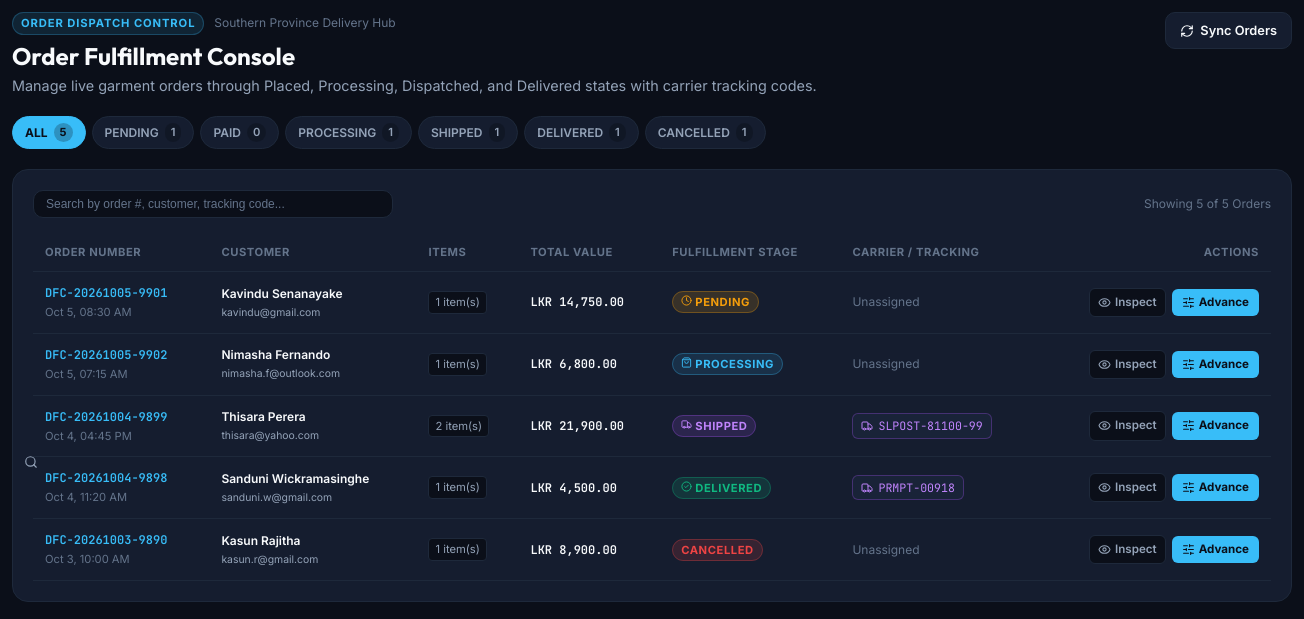
it: STORM-FE-019: Admin Order Fulfillment Console & 30-Day Return Approvals › AC1: Orders Fulfillment Console & Status Filter Pills › filters orders list by status tabs (e.g. SHIPPED)
Click the tab with test id "filter-tab-shipped" at (468, 133), box [418, 116, 518, 149]
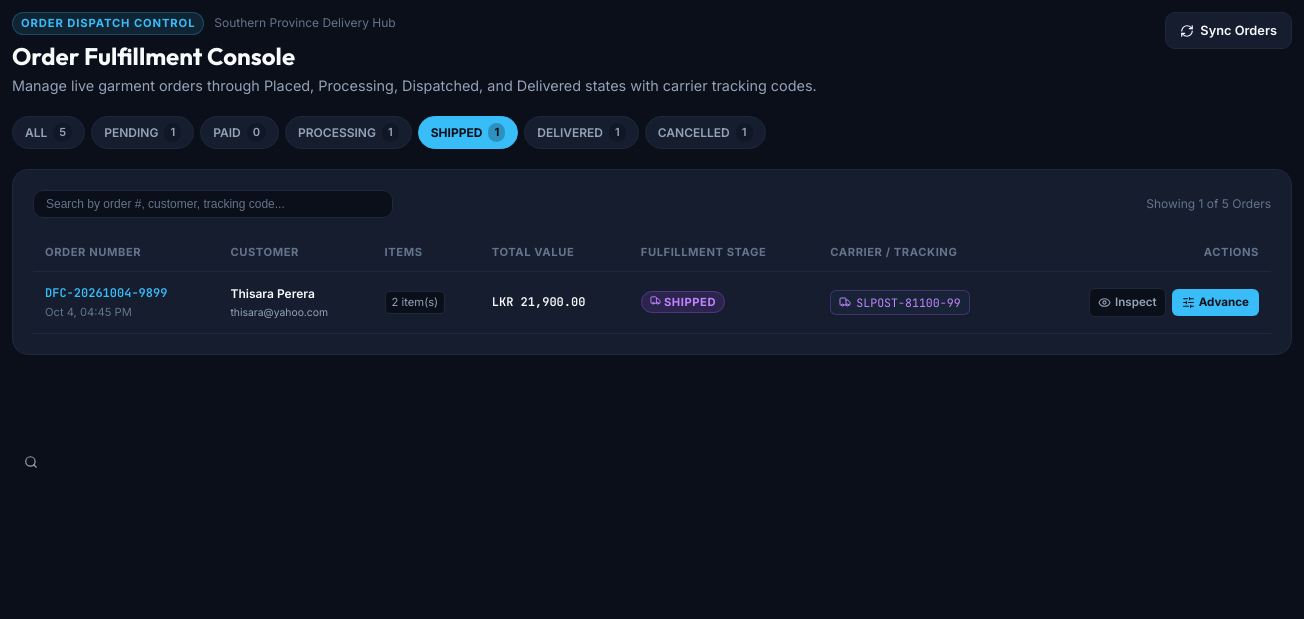
Expected: the text "DFC-20261004-9899" is shown, [45, 285, 167, 301]
Now the text "DFC-20261005-9901" is gone
